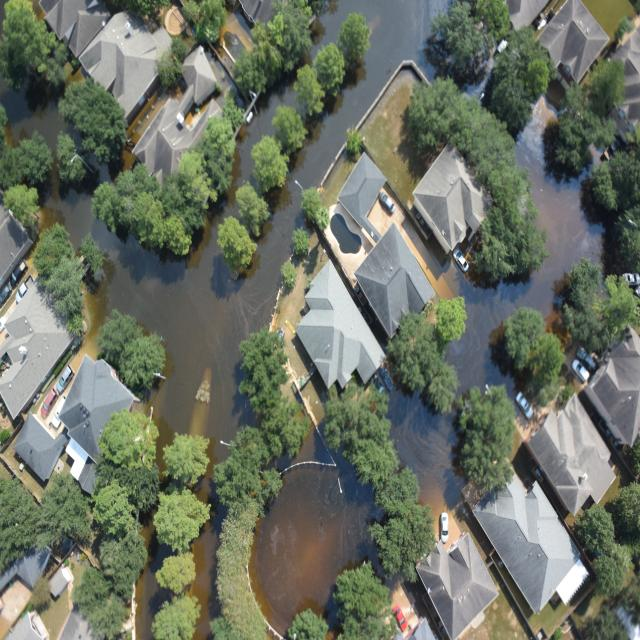fire: (45, 0, 432, 480), (451, 119, 601, 391), (252, 456, 378, 629), (391, 391, 452, 515), (235, 91, 300, 187), (192, 500, 222, 639), (135, 546, 171, 640), (11, 102, 84, 147), (0, 74, 30, 141), (141, 523, 156, 544)
